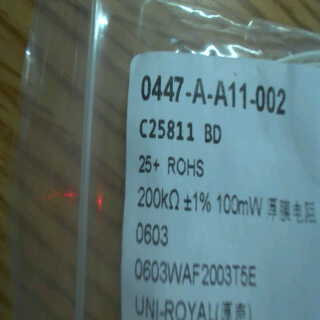200kR: (132, 184, 182, 211)
